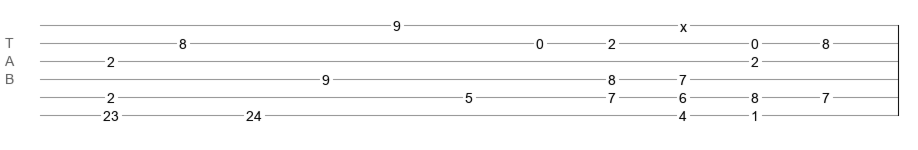0: (536, 36, 544, 46), (751, 36, 759, 46)
1: (751, 108, 759, 118)
2: (107, 90, 115, 100), (107, 54, 115, 64), (608, 36, 616, 46), (751, 54, 759, 64)
23: (103, 108, 119, 118)
24: (246, 108, 262, 118)
4: (679, 108, 687, 118)
5: (465, 90, 473, 100)
6: (679, 90, 687, 100)
7: (608, 90, 616, 100), (679, 72, 687, 82), (822, 90, 830, 100)
8: (179, 36, 187, 46), (608, 72, 616, 82), (751, 90, 759, 100), (822, 36, 830, 46)
9: (322, 72, 330, 82), (393, 18, 401, 28)
x: (680, 19, 687, 27)
